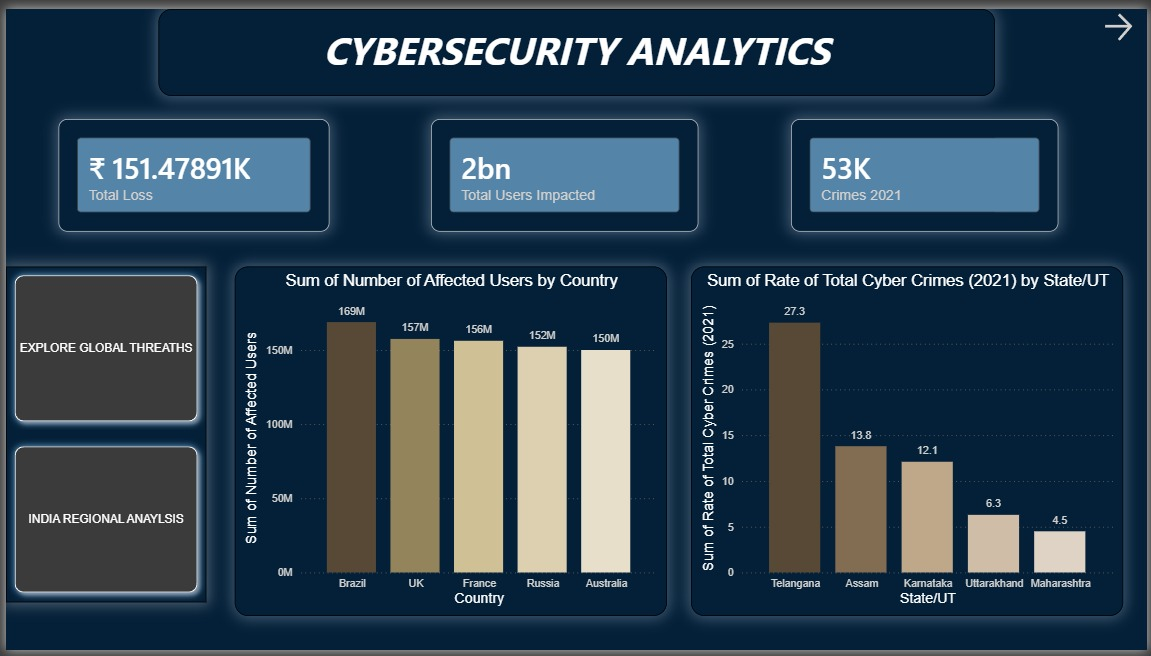

Layout of this report page (visuals, bound fields, positions):
{"tool":"powerbi","page":{"name":"HOMEPAGE","canvas":[1280,720],"ordinal":0},"visuals":[{"type":"textbox","box":[170.7,0,938.6,97.4],"z":0},{"type":"cardVisual","fields":{"Data":["Global_Cybersecurity_Threats_2015-2024 xlsx - Global_Cybersecurity_Threats_20.Total Loss"]},"box":[58.9,123.4,304.3,126.2],"z":1000},{"type":"cardVisual","fields":{"Data":["Global_Cybersecurity_Threats_2015-2024 xlsx - Global_Cybersecurity_Threats_20.Total Users Impacted"]},"box":[476.1,123.4,300.1,126.2],"z":2000},{"type":"cardVisual","fields":{"Data":["CIIReport.Crimes 2021"]},"box":[880.6,123.4,300.1,126.2],"z":3000},{"type":"pageNavigator","box":[0,288.3,225,376.7],"z":4000},{"type":"columnChart","fields":{"Category":["Global_Cybersecurity_Threats_2015-2024 xlsx - Global_Cybersecurity_Threats_20.Country"],"Y":["Sum(Global_Cybersecurity_Threats_2015-2024 xlsx - Global_Cybersecurity_Threats_20.Number of Affected Users)"]},"box":[256.7,288.3,485,391.7],"z":5000},{"type":"actionButton","box":[1227,0,53.3,40.7],"z":6000},{"type":"columnChart","fields":{"Category":["CIIReport.State/UT"],"Y":["Sum(CIIReport.Rate of Total Cyber Crimes (2021))"]},"box":[768.3,288.3,485,391.7],"z":6001}]}

Visuals, with their boxes in screenshot pixels (x1, y1, x2, y2), scaled from the page's 1280x720 canvas onto the 1151x656 screenshot:
textbox: bbox=[153, 0, 998, 89]
cardVisual - Global_Cybersecurity_Threats_2015-2024 xlsx - Global_Cybersecurity_Threats_20.Total Loss: bbox=[53, 112, 327, 227]
cardVisual - Global_Cybersecurity_Threats_2015-2024 xlsx - Global_Cybersecurity_Threats_20.Total Users Impacted: bbox=[428, 112, 698, 227]
cardVisual - CIIReport.Crimes 2021: bbox=[792, 112, 1062, 227]
pageNavigator: bbox=[0, 263, 202, 606]
columnChart - Global_Cybersecurity_Threats_2015-2024 xlsx - Global_Cybersecurity_Threats_20.Country x Sum(Global_Cybersecurity_Threats_2015-2024 xlsx - Global_Cybersecurity_Threats_20.Number of Affected Users): bbox=[231, 263, 667, 620]
actionButton: bbox=[1103, 0, 1150, 37]
columnChart - CIIReport.State/UT x Sum(CIIReport.Rate of Total Cyber Crimes (2021)): bbox=[691, 263, 1127, 620]
